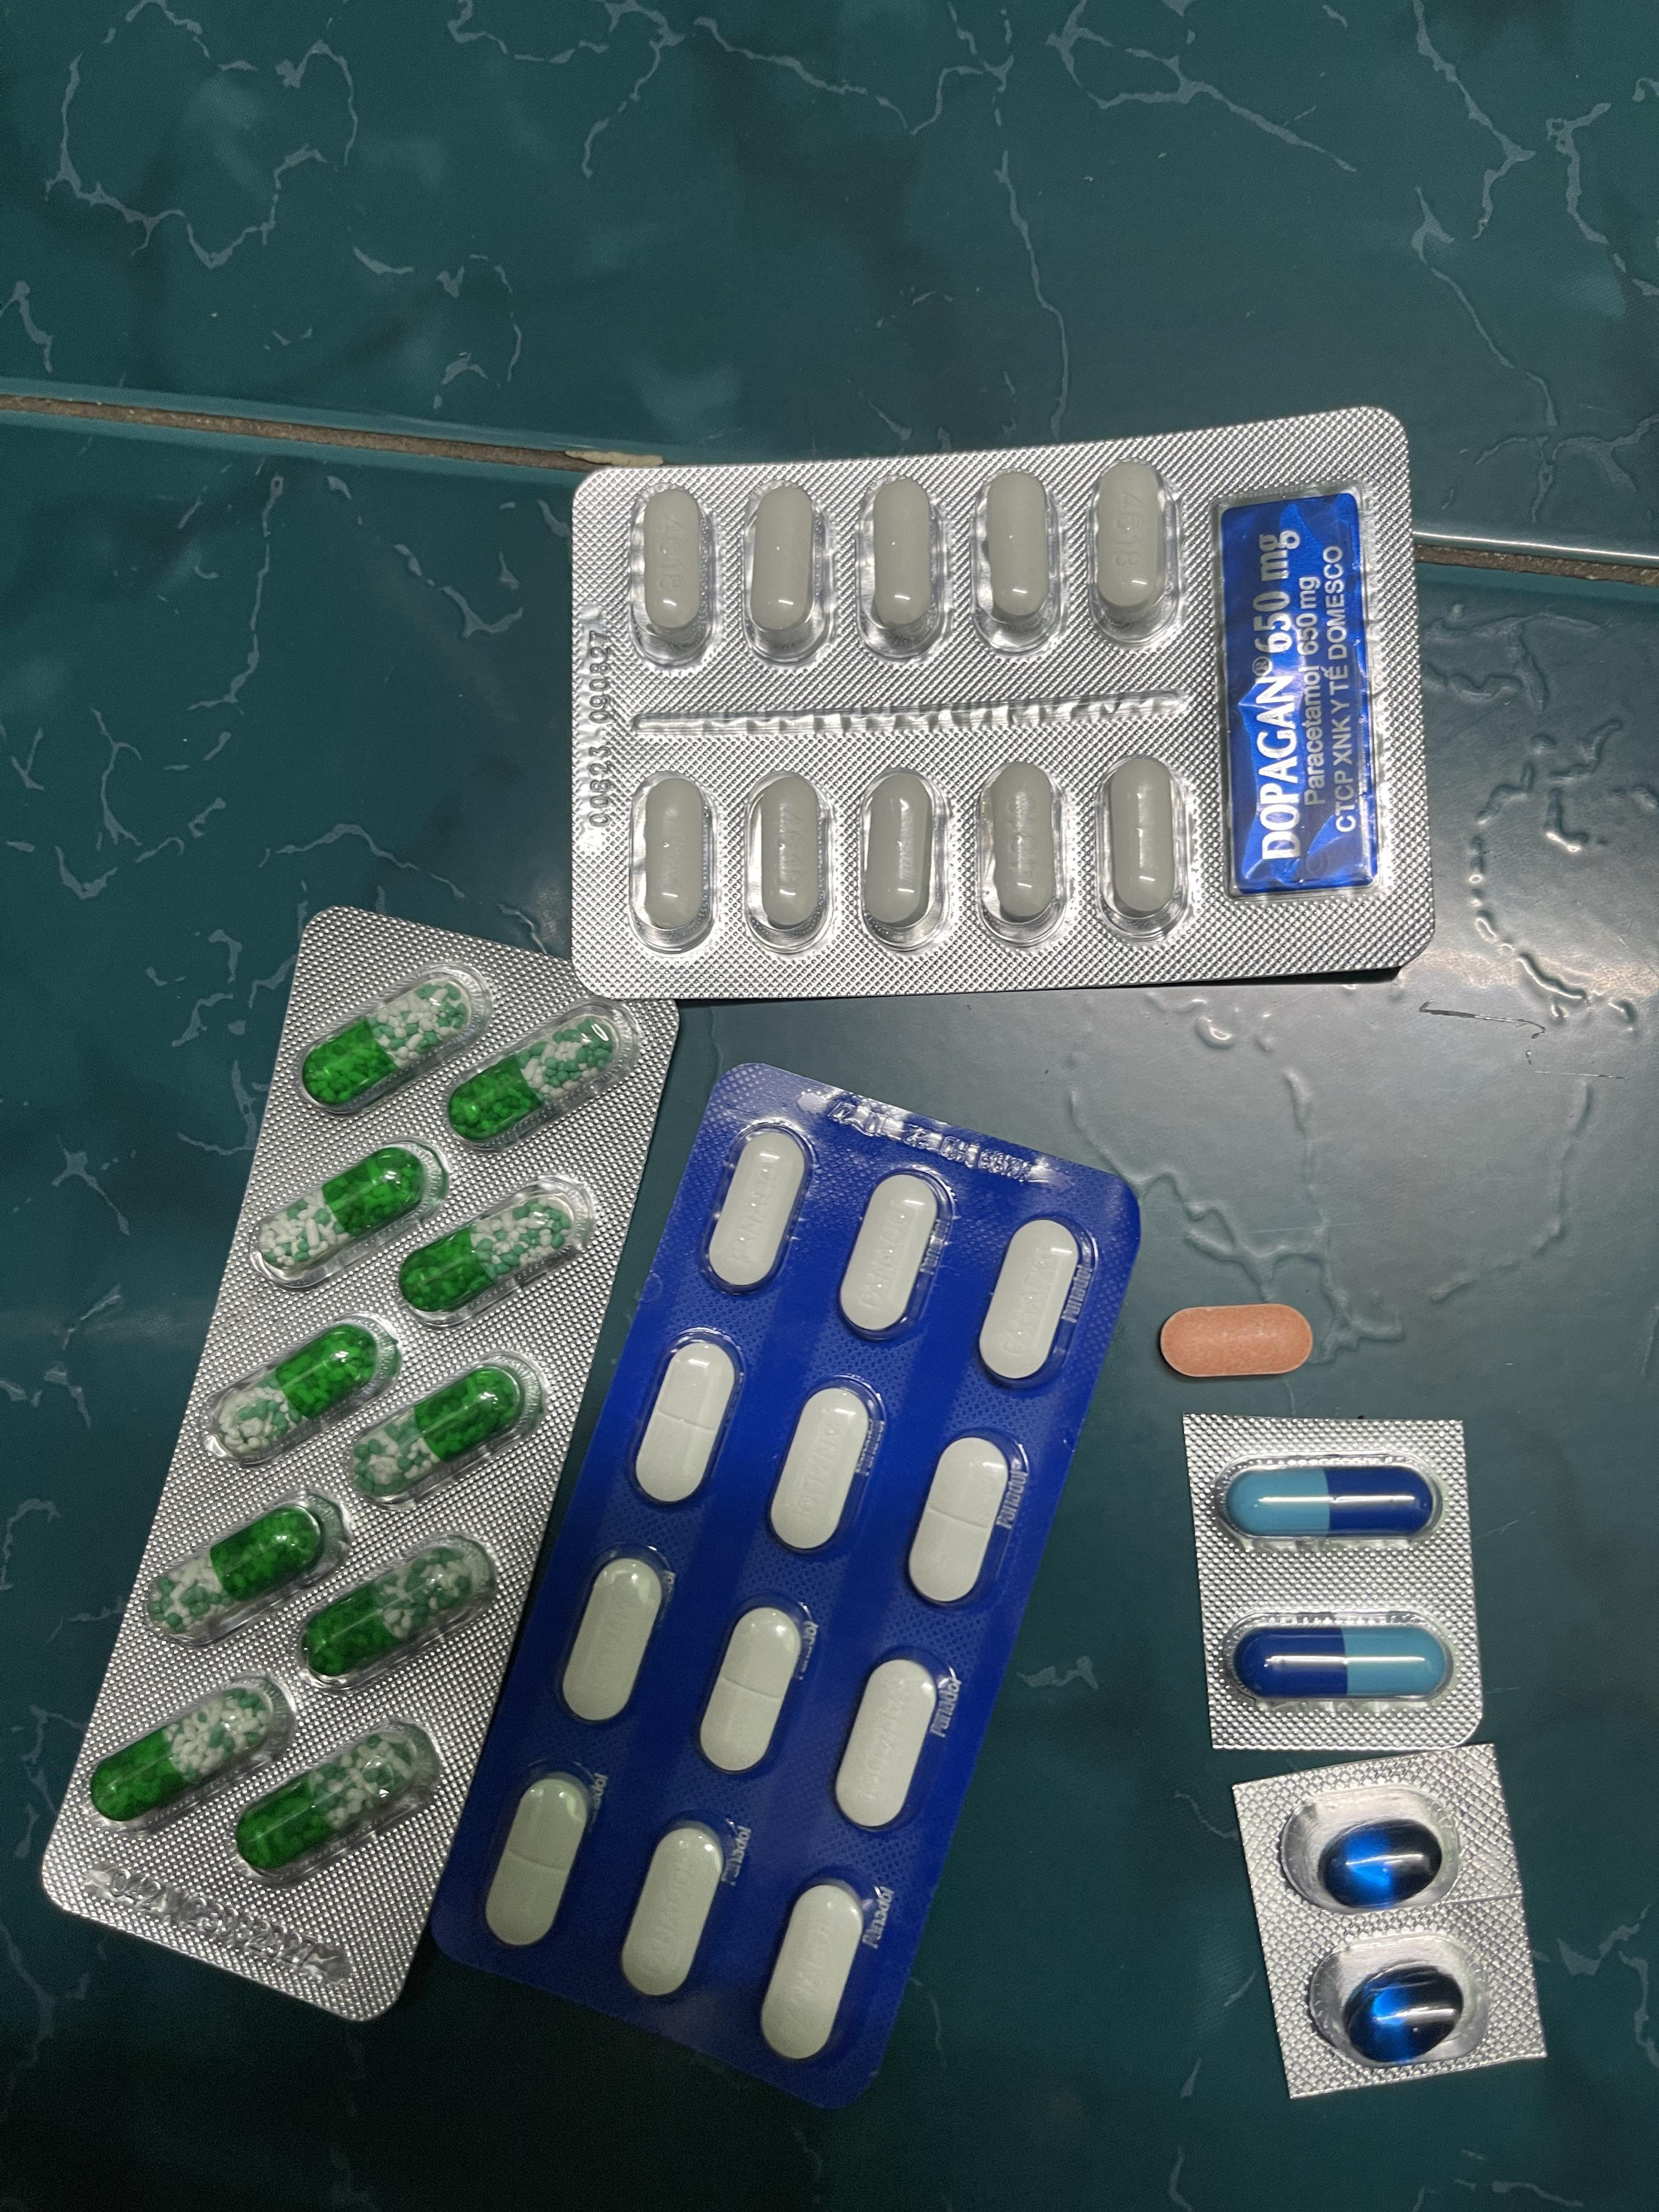Lincomyxin_500mg: (1344, 1963, 1469, 2062), (1317, 1818, 1446, 1909)
Loratadine_10mg: (1162, 1303, 1312, 1379)
Paracetamol_350mg: (762, 1881, 871, 2064), (769, 1383, 878, 1555), (620, 1822, 727, 2000), (486, 1771, 592, 1949), (697, 1602, 805, 1777), (836, 1658, 943, 1834), (563, 1554, 667, 1728), (908, 1433, 1012, 1608), (976, 1217, 1082, 1386), (838, 1174, 946, 1339), (706, 1125, 814, 1291), (634, 1338, 737, 1510)
Paracetamol_500mg: (971, 462, 1063, 653), (856, 768, 946, 951), (627, 484, 714, 667), (1086, 455, 1168, 646), (1100, 754, 1183, 939), (631, 772, 718, 946), (746, 772, 831, 948), (985, 765, 1058, 923), (868, 475, 938, 636), (748, 484, 816, 643)
Paracetamol_650mg: (232, 1719, 441, 1883), (84, 1676, 298, 1834), (145, 1491, 354, 1644), (197, 1315, 399, 1468), (303, 1533, 500, 1683), (349, 1357, 542, 1505), (403, 1179, 596, 1325), (298, 981, 472, 1109), (256, 1148, 430, 1273), (453, 1015, 617, 1134)
pill: (1229, 1467, 1441, 1543), (1239, 1627, 1445, 1700)
